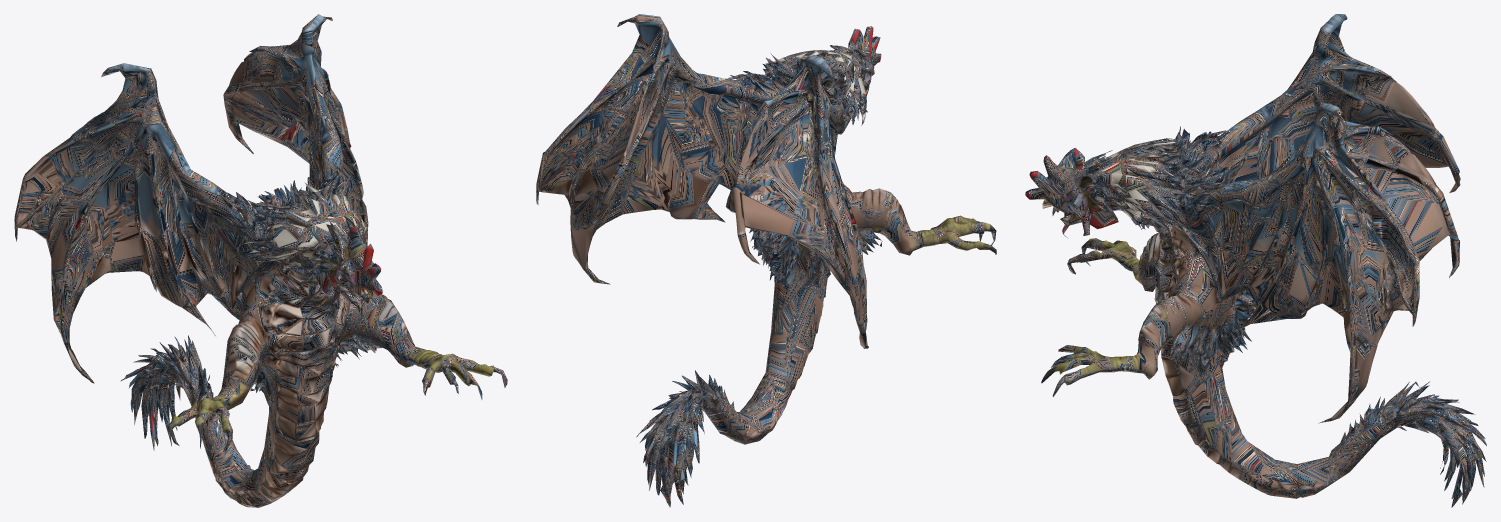
The model's file is cockatrice.glb.
3 renders of one model, left to right at view 1: azimuth 30°, elevation 25°; view 2: azimuth 150°, elevation 25°; view 3: azimuth 270°, elevation 25°, orthographic. The views are drawn at different scales.
Size of the model in its own units: 1.54 by 2 by 1.88.
1 material, 1 textured.
